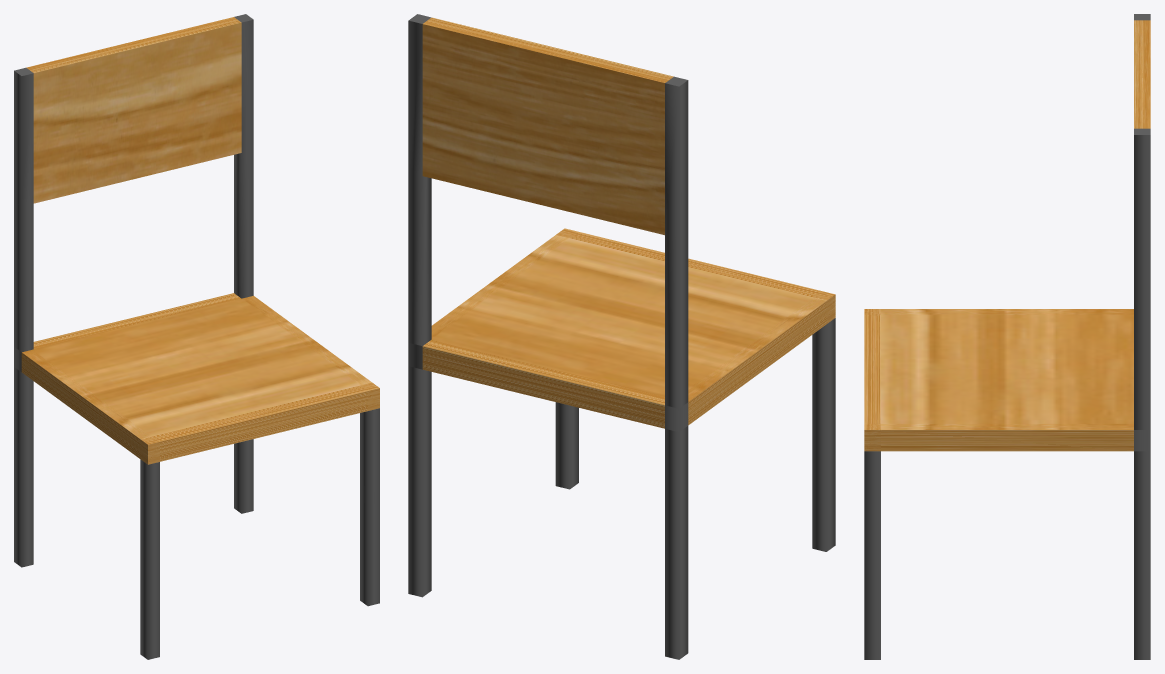
File: BasicChair4.fbx
3 views of the same model, side by side, from view 1: azimuth 30°, elevation 25°; view 2: azimuth 150°, elevation 25°; view 3: azimuth 270°, elevation 25° (orthographic). The views are drawn at different scales.
Visible parts, largest first — view 1: pCube6; view 2: pCube6; view 3: pCube6.
Part boxes in pixels (left/top/right/bottom): pCube6: left=14, top=14, right=379, bottom=659; pCube6: left=408, top=14, right=835, bottom=659; pCube6: left=864, top=14, right=1150, bottom=659.
Bounding box in the file's own units: 0.6157 × 1.25 × 0.6157.
Materials: 2 (1 with a texture image).
